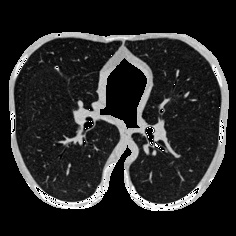PN: (55, 66, 59, 70)
